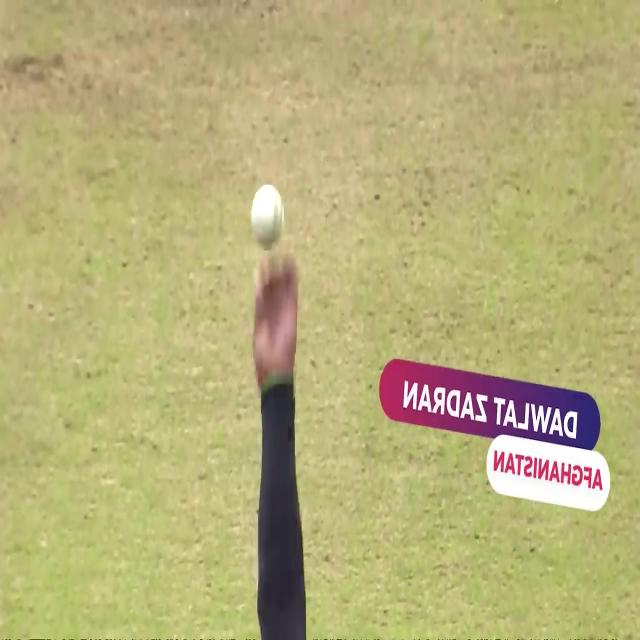ball: (251, 183, 285, 253)
